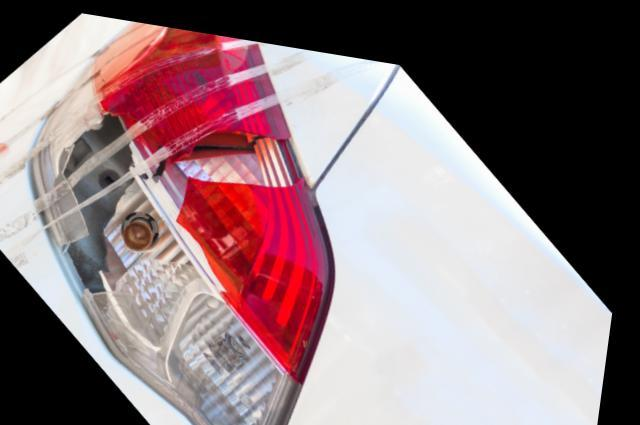lamp broken: (33, 17, 337, 425)
